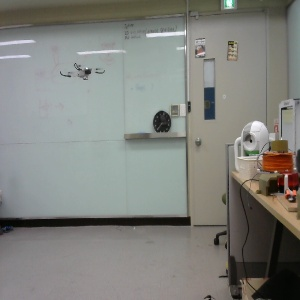Drone: (61, 64, 107, 81)
